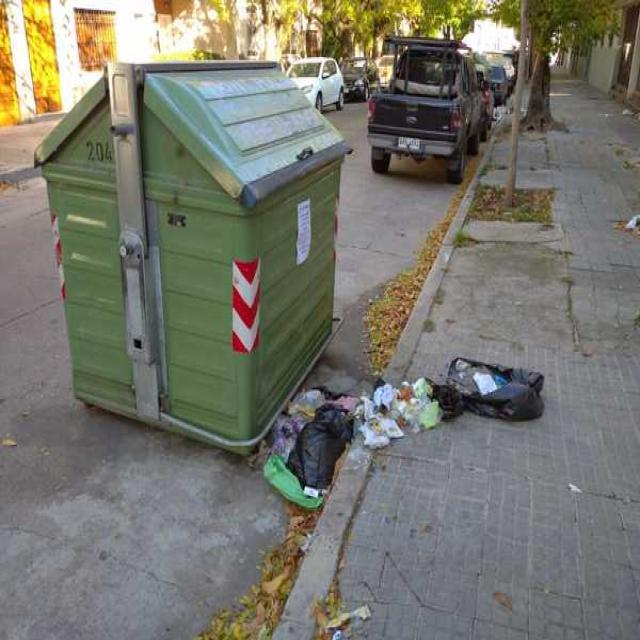garbage: (349, 358, 558, 443), (266, 380, 332, 514), (624, 214, 638, 246)
